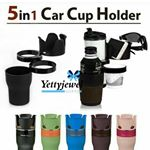other: (13, 111, 40, 150), (63, 113, 89, 150), (38, 112, 63, 150)
